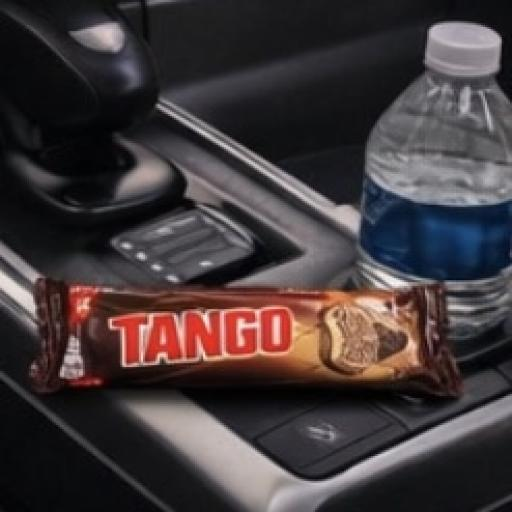tango: (14, 246, 478, 464)
